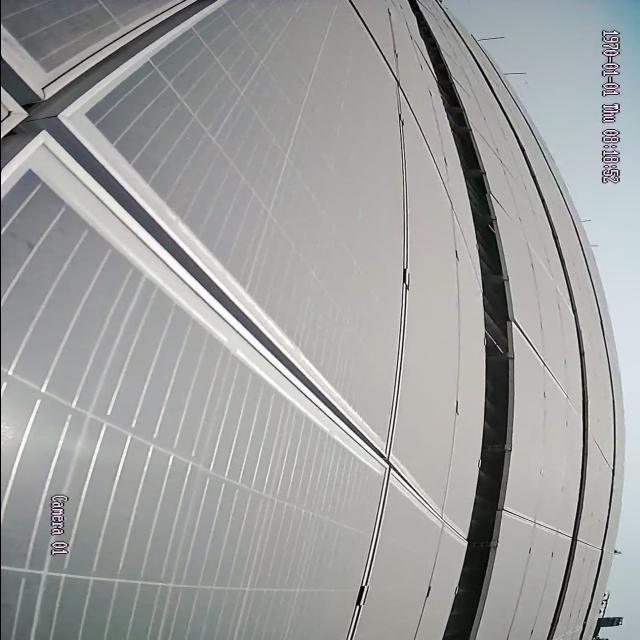interior panel: (0, 0, 456, 531), (383, 101, 412, 432), (519, 328, 575, 412), (508, 509, 566, 541)
outher panel: (399, 0, 512, 639)
